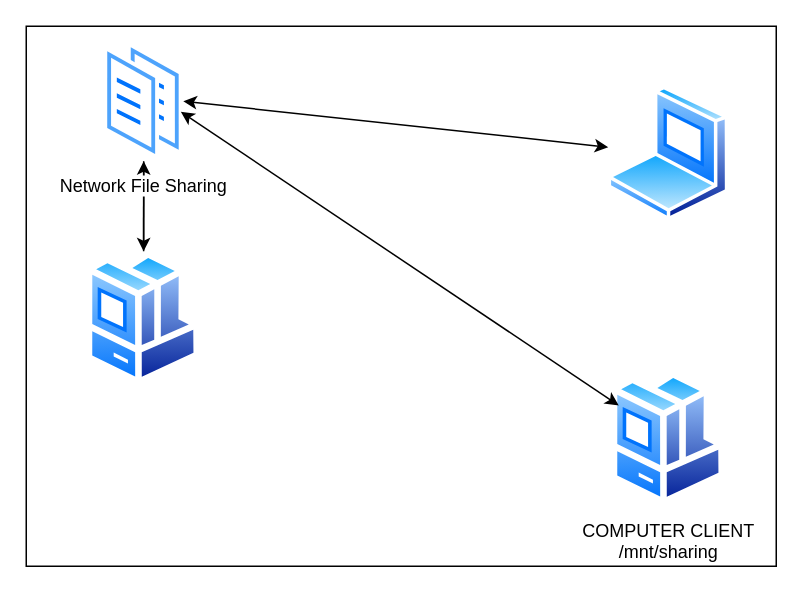
Image size: 803x593. Some labels were removed from this diagram. Each missing label, with the centre of its shape:
"COMPUTER SERVER /srv/sharing" goes at pixel 143 318.
"LAPTOP CLIENT /mnt/sharing" goes at pixel 668 153.
